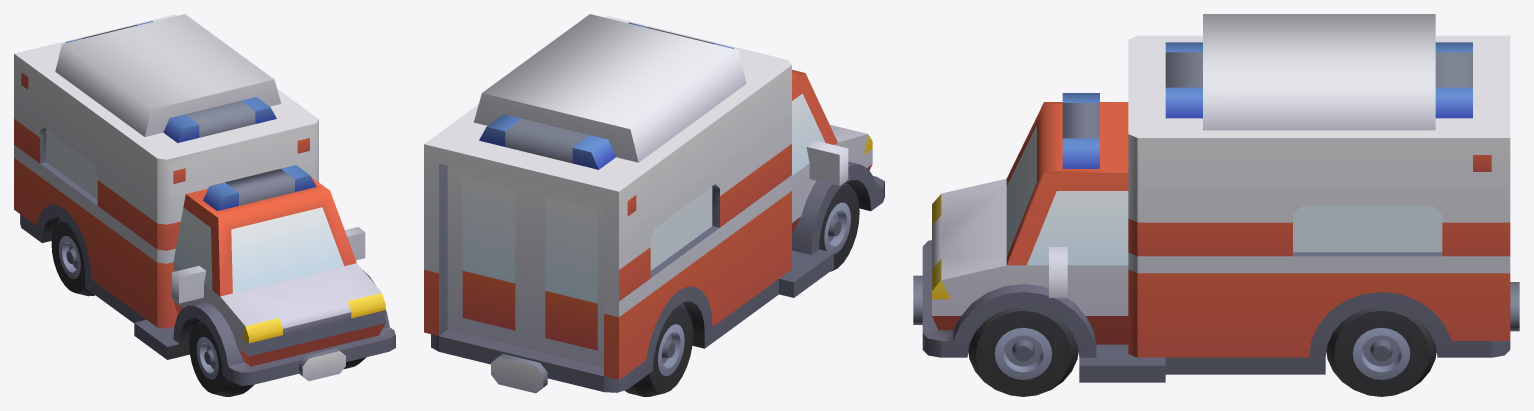
File: ambulance.glb
The picture shows the model from 3 angles, left to right: view 1: azimuth 30°, elevation 25°; view 2: azimuth 150°, elevation 25°; view 3: azimuth 270°, elevation 25°; orthographic projection. The views are drawn at different scales.
Parts seen in each view (by area): view 1: body; view 2: body; view 3: body.
Boxes of the visible parts, <box> form: body: <box>14,14,395,396</box>; body: <box>424,14,884,396</box>; body: <box>913,14,1519,396</box>.
Bounding box in the file's own units: 1.5 × 1.8 × 3.25.
Materials: 1 (1 with a texture image).
